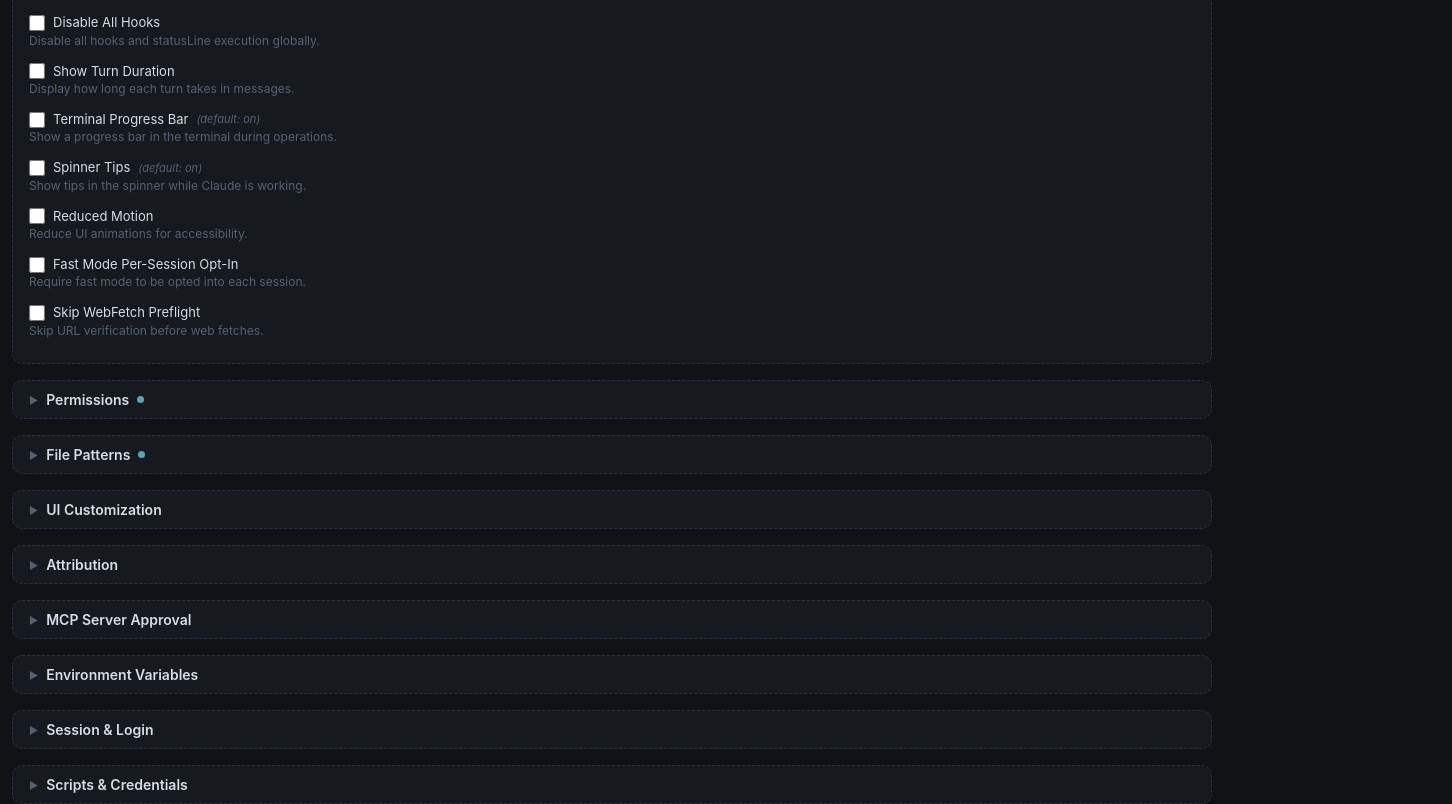
ConfigPage › renders permission allow/deny tools as tags after expanding Permissions
The width and height of the screenshot is (1452, 804).
(page scrolled)
Click the button "▶ Permissions": (88, 400) top-left (13, 382), bottom-right (1211, 418)
(page scrolled)
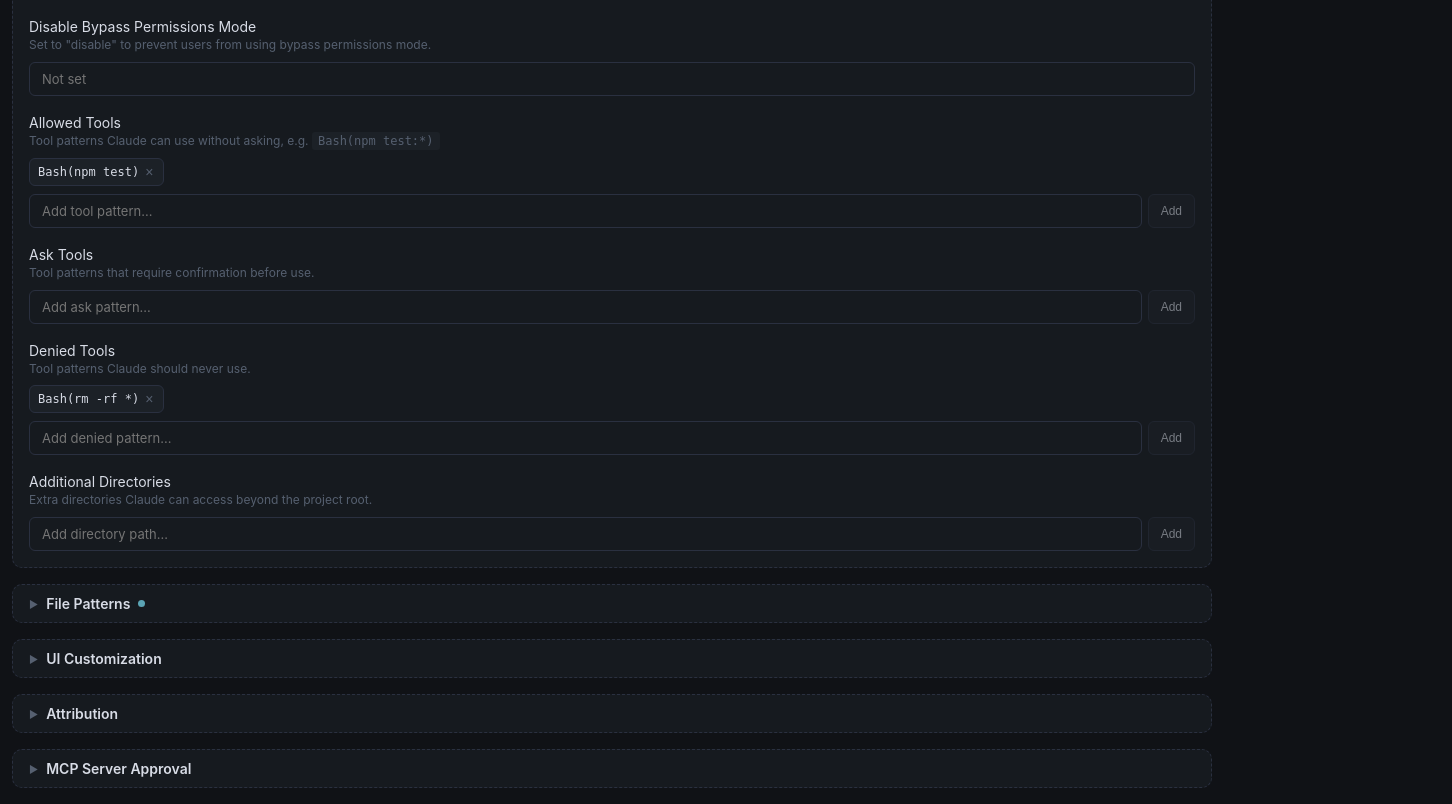
Expected: the button named "Remove Bash(npm test)" is shown, top-left (143, 165), bottom-right (155, 179)
Expected: the button named "Remove Bash(rm -rf *)" is shown, top-left (143, 392), bottom-right (155, 406)
